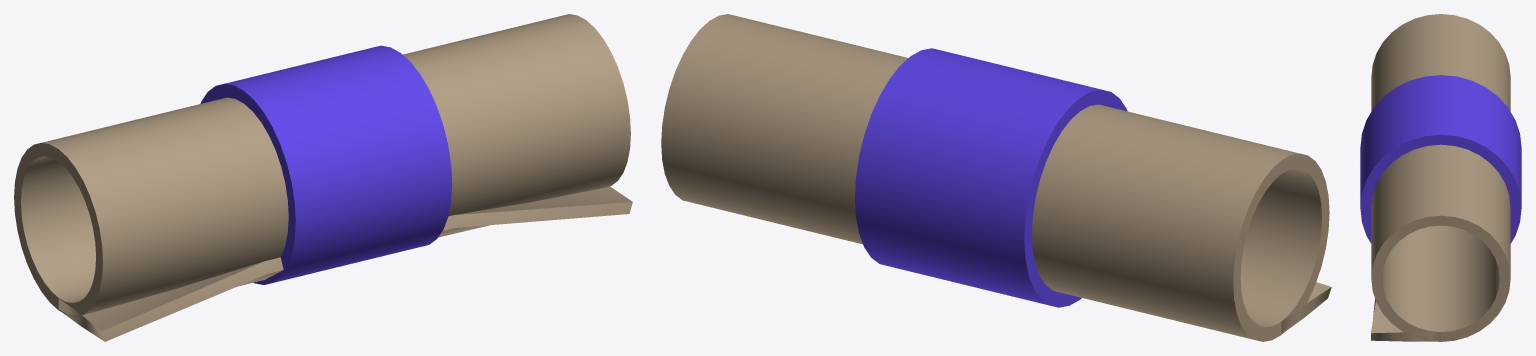
File: spell.gltf
3 renders of one model, left to right at view 1: azimuth 30°, elevation 25°; view 2: azimuth 150°, elevation 25°; view 3: azimuth 270°, elevation 25°, orthographic. The views are drawn at different scales.
Parts seen in each view (by area): view 1: Cube.001; view 2: Cube.001; view 3: Cube.001.
Boxes of the visible parts, box(x1,y1,x2,y2) form: Cube.001: box(14, 14, 632, 341); Cube.001: box(661, 14, 1331, 341); Cube.001: box(1360, 14, 1521, 341).
Bounding box in the file's own units: 0.4026 × 0.1352 × 0.1352.
1 material, 1 textured.
